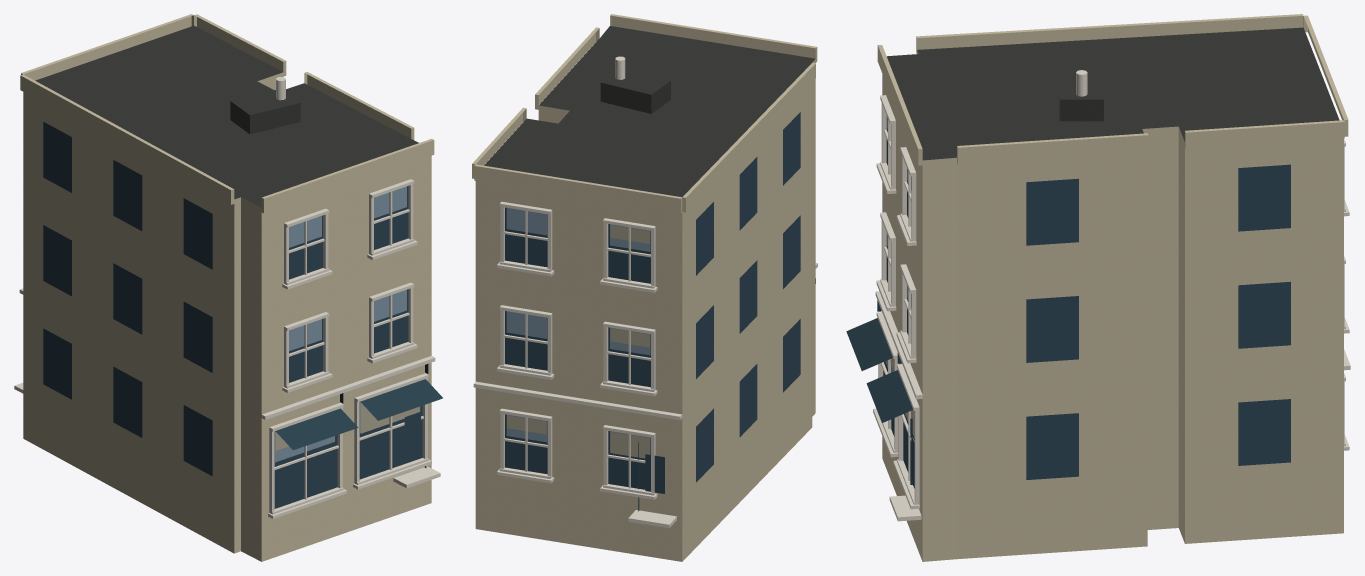
3 views of the same model, side by side, from view 1: azimuth 30°, elevation 25°; view 2: azimuth 150°, elevation 25°; view 3: azimuth 270°, elevation 25° (orthographic). The views are drawn at different scales.
Parts seen in each view (by area): view 1: Footprint 0 / surface 2, Footprint 0 / surface 1, Inset glazing, Cornices and window frames, Facade bay volumes, Storefronts and doors, Sky reflection panels, Inferred rooftop service enclosure / surface 5, Inferred rooftop service enclosure / surface 3, Interior blind variation; view 2: Footprint 0 / surface 2, Footprint 0 / surface 1, Inset glazing, Cornices and window frames, Facade bay volumes, Sky reflection panels, Interior blind variation, Inferred rooftop service enclosure / surface 6, Inferred rooftop service enclosure / surface 3; view 3: Footprint 0 / surface 2, Footprint 0 / surface 1, Inset glazing, Facade bay volumes, Cornices and window frames, Storefronts and doors, Inferred rooftop service enclosure / surface 1, Inferred rooftop service enclosure / surface 3.
Part boxes in pixels (x1,y1,x2,y2): Footprint 0 / surface 2: (23,72,431,561); Footprint 0 / surface 1: (35,25,418,207); Inset glazing: (43,122,422,508); Cornices and window frames: (14,179,440,518); Facade bay volumes: (20,14,434,213); Storefronts and doors: (275,364,442,467); Sky reflection panels: (275,186,420,462); Inferred rooftop service enclosure / surface 5: (250,103,300,134); Inferred rooftop service enclosure / surface 3: (231,90,300,114); Interior blind variation: (275,403,419,450); Footprint 0 / surface 2: (475,59,815,561); Footprint 0 / surface 1: (484,26,815,196); Inset glazing: (505,112,800,493); Cornices and window frames: (473,201,817,528); Facade bay volumes: (472,14,817,213); Sky reflection panels: (506,208,650,454); Interior blind variation: (507,225,649,458); Inferred rooftop service enclosure / surface 6: (600,82,651,113); Inferred rooftop service enclosure / surface 3: (601,69,670,94); Footprint 0 / surface 2: (882,50,1343,561); Footprint 0 / surface 1: (887,27,1339,160); Inset glazing: (883,128,1290,488); Facade bay volumes: (877,14,1348,165); Cornices and window frames: (873,95,1350,521); Storefronts and doors: (846,300,913,484); Inferred rooftop service enclosure / surface 1: (1059,99,1103,121); Inferred rooftop service enclosure / surface 3: (1059,71,1103,99).
Bounding box in the file's own units: 8.68 × 13.31 × 13.68.
